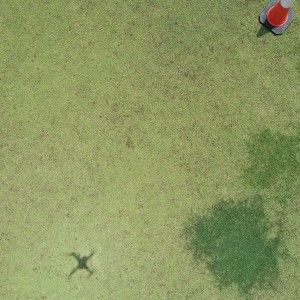traffic cone: (259, 1, 296, 36)
